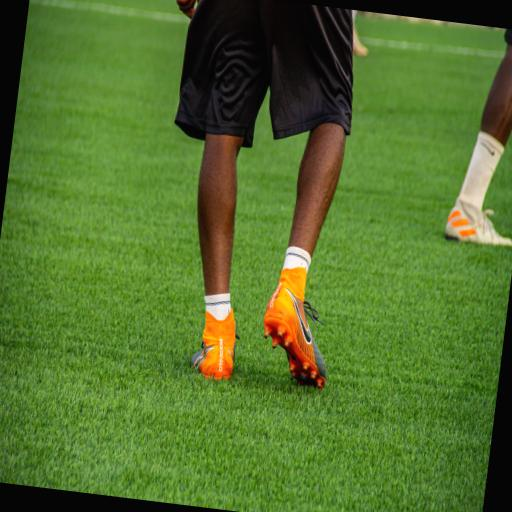shoe: (263, 267, 325, 388), (190, 310, 237, 379), (444, 199, 511, 246), (352, 27, 367, 57)
